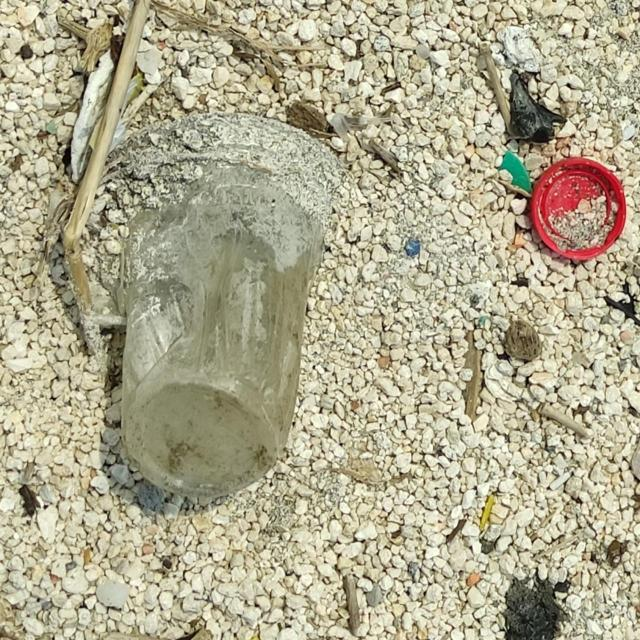plastic_waste: (122, 110, 354, 501), (530, 160, 626, 265)
